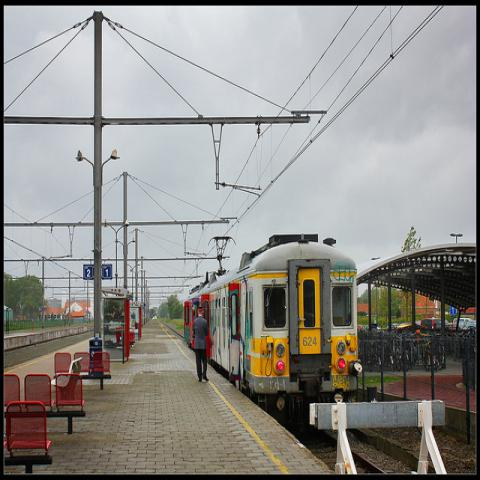car: (453, 318, 473, 329), (462, 320, 476, 330)
truck: (421, 318, 441, 330)
